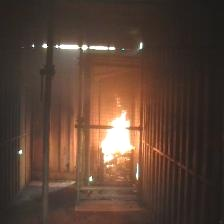fire: (98, 104, 135, 166)
